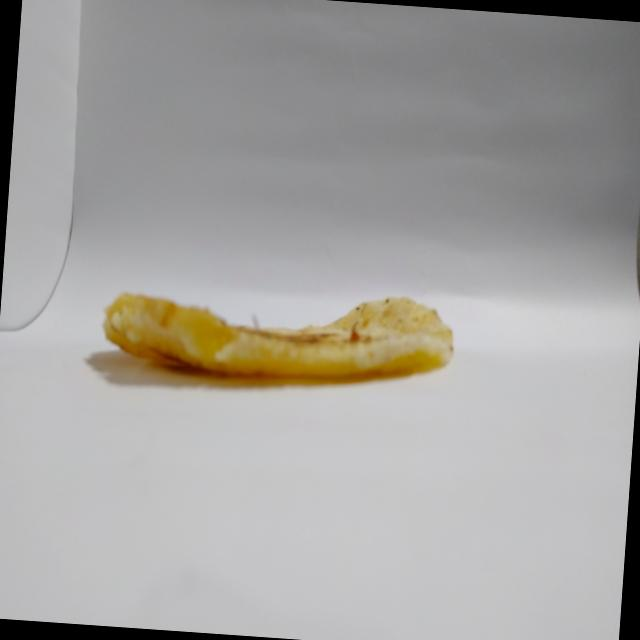Mbeju: (90, 246, 468, 408)
